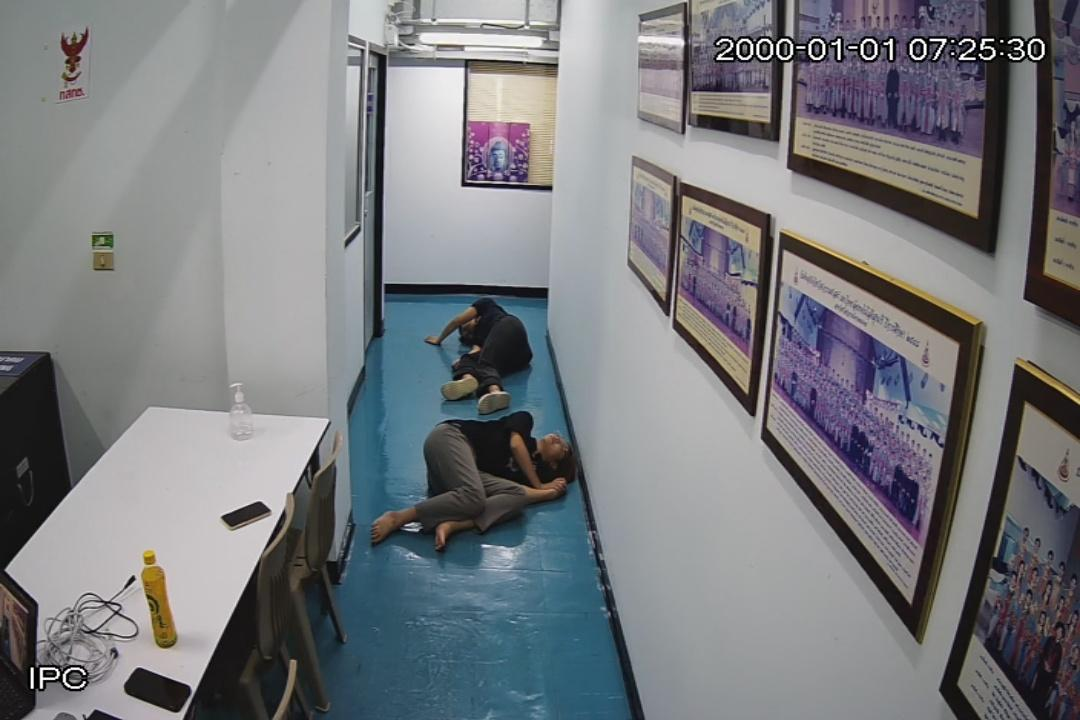fall: (368, 416, 573, 550), (428, 298, 534, 412)
